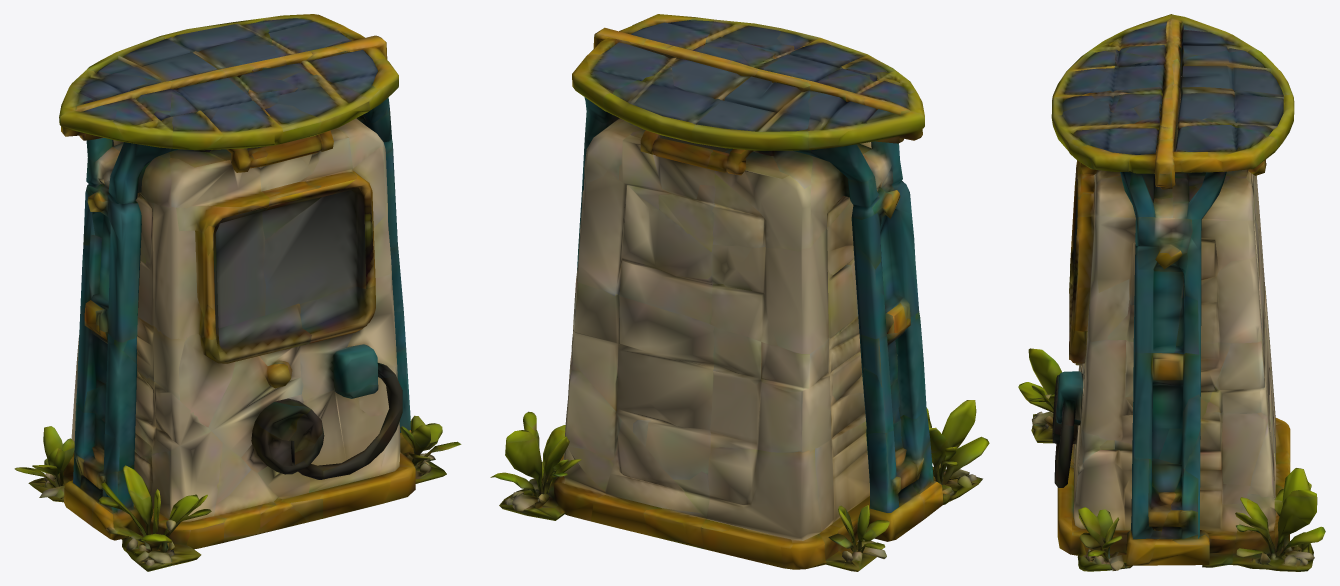
Rendered from st04-wayfinding-kiosk.glb.
3 views of the same model, side by side, from view 1: azimuth 30°, elevation 25°; view 2: azimuth 150°, elevation 25°; view 3: azimuth 270°, elevation 25° (orthographic). The views are drawn at different scales.
Parts seen in each view (by area): view 1: tripo_node_84afce50-be68-4fab-93a3-d35a092b333b; view 2: tripo_node_84afce50-be68-4fab-93a3-d35a092b333b; view 3: tripo_node_84afce50-be68-4fab-93a3-d35a092b333b.
Part boxes in pixels (left/top/right/bottom): tripo_node_84afce50-be68-4fab-93a3-d35a092b333b: left=14, top=14, right=461, bottom=571; tripo_node_84afce50-be68-4fab-93a3-d35a092b333b: left=490, top=14, right=989, bottom=571; tripo_node_84afce50-be68-4fab-93a3-d35a092b333b: left=1018, top=14, right=1325, bottom=571.
Size of the model in its own units: 0.907 by 0.9999 by 0.6893.
Materials: 1 (1 with a texture image).
